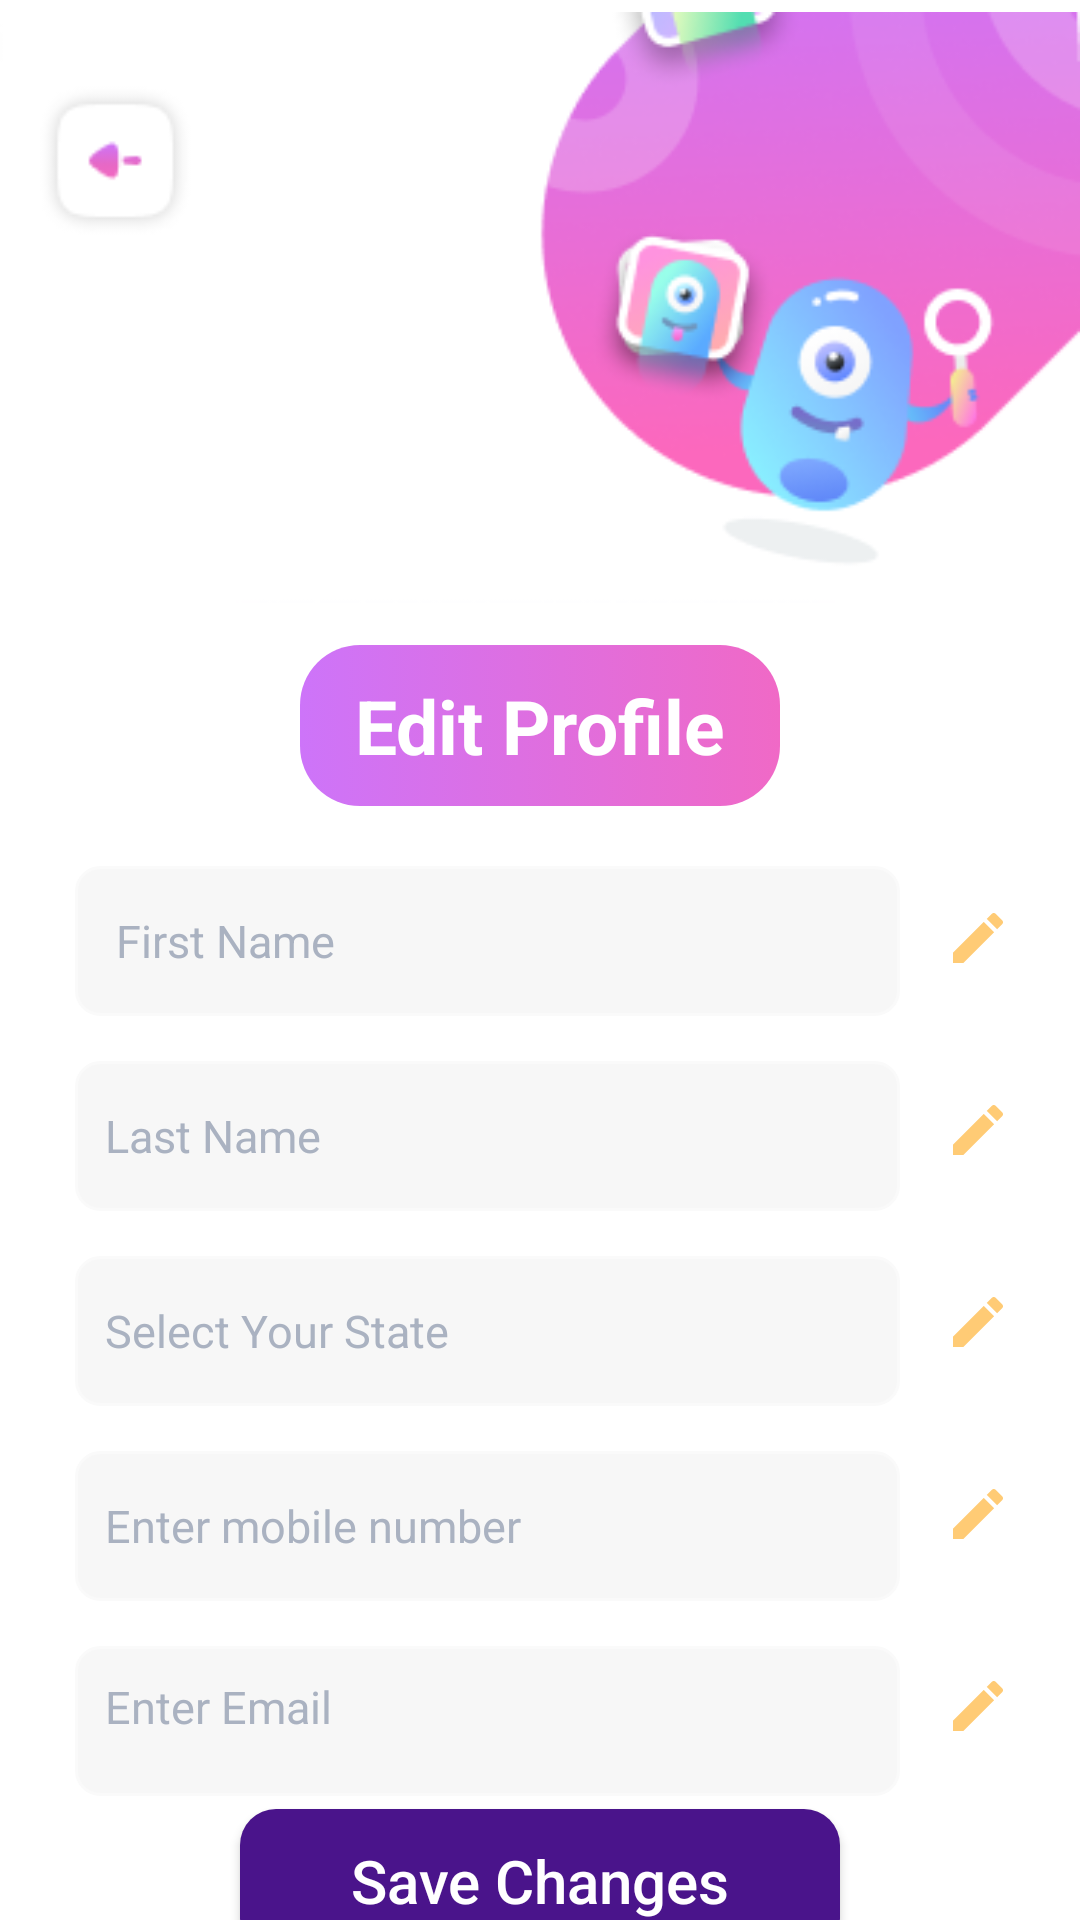

Locate icon controls on the screen. Image size 1080×1920, boxes as (x1, y1, x2, y2).
editprofile: (953, 913, 1003, 963), (953, 1105, 1003, 1155), (953, 1297, 1003, 1347), (953, 1489, 1003, 1539), (953, 1681, 1003, 1731)
